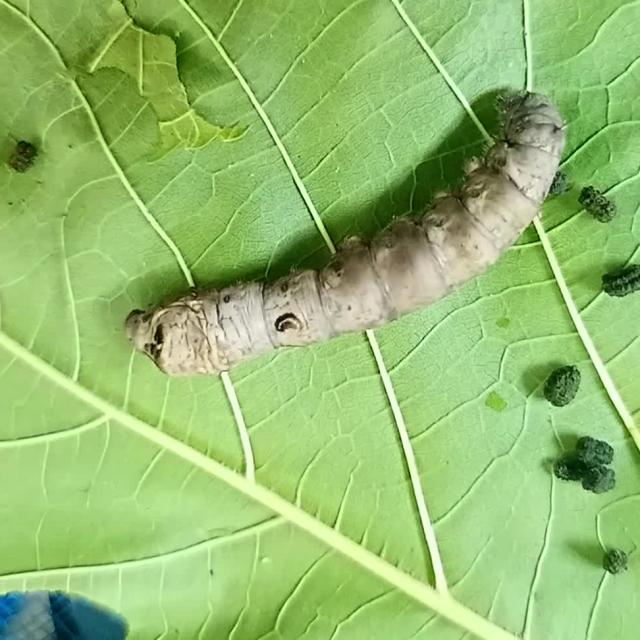Grasserie: (99, 70, 604, 448)
